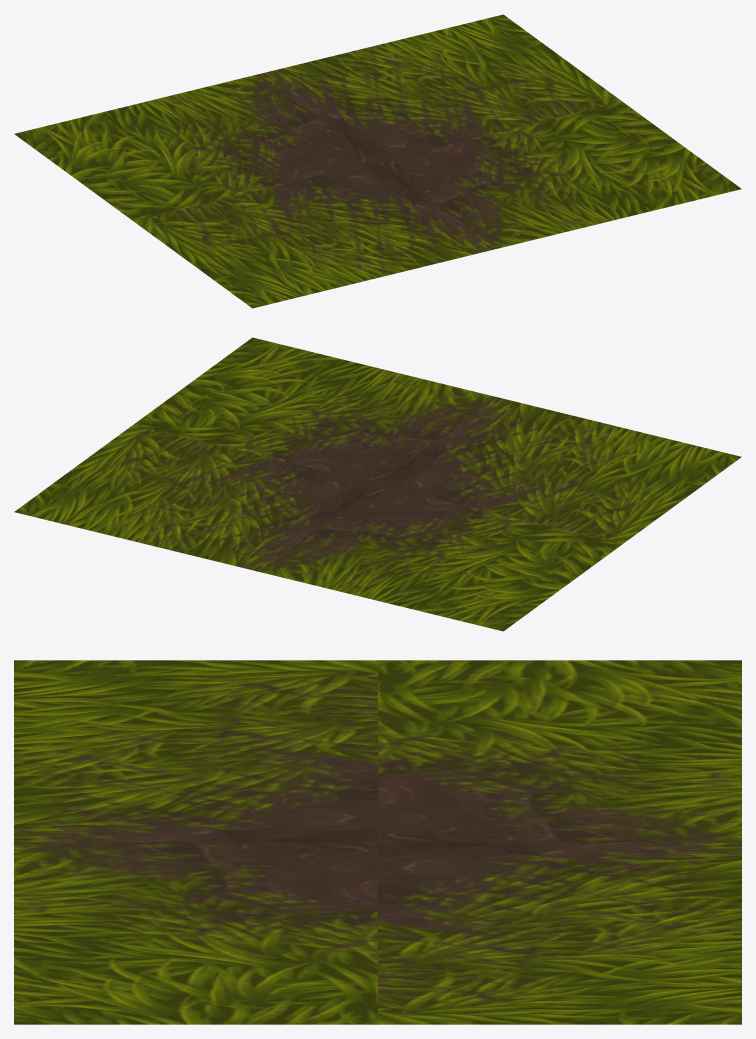
Rendered from PathTile.Spot.fbx.
3 views of the same model, one above another, from view 1: azimuth 30°, elevation 25°; view 2: azimuth 150°, elevation 25°; view 3: azimuth 270°, elevation 25° (orthographic). The views are drawn at different scales.
Parts seen in each view (by area): view 1: Path.Straight.Spot; view 2: Path.Straight.Spot; view 3: Path.Straight.Spot.
Boxes of the visible parts, box(x1,y1,x2,y2) form: Path.Straight.Spot: box(14, 14, 741, 308); Path.Straight.Spot: box(14, 337, 741, 631); Path.Straight.Spot: box(14, 660, 741, 1024).
Bounding box in the file's own units: 6.29 × 8.64e-07 × 5.31.
